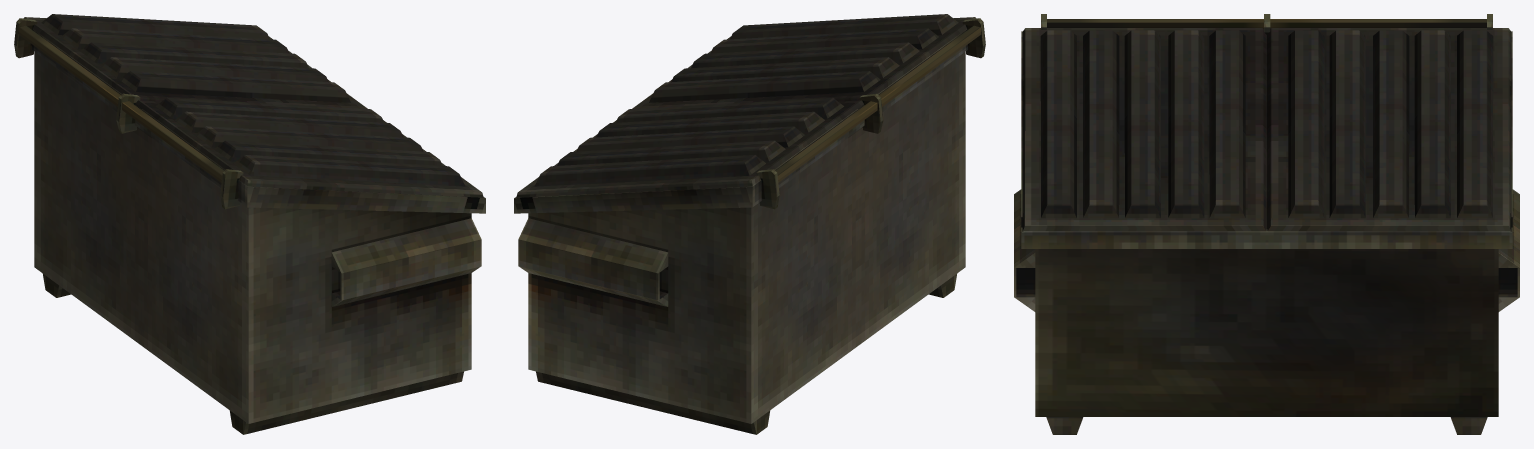
Rendered from Dumpster.fbx.
The picture shows the model from 3 angles, left to right: view 1: azimuth 30°, elevation 25°; view 2: azimuth 150°, elevation 25°; view 3: azimuth 270°, elevation 25°; orthographic projection. The views are drawn at different scales.
Visible parts, largest first — view 1: dumpster_001; view 2: dumpster_001; view 3: dumpster_001.
Part boxes in pixels (box(x1,y1,x2,y2)): dumpster_001: box(14, 14, 485, 434); dumpster_001: box(514, 14, 985, 434); dumpster_001: box(1014, 14, 1519, 434).
Bounding box in the file's own units: 2.09 × 2.14 × 3.33.
Materials: 2 (2 with a texture image).
